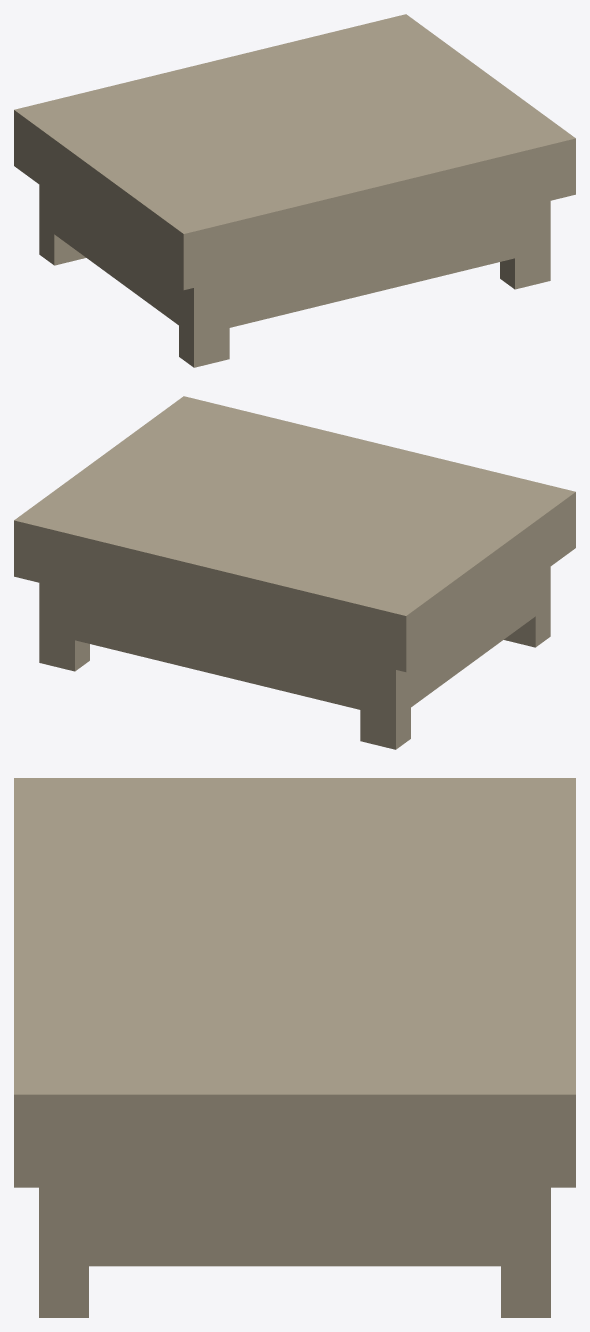
File: pk_ott_tweed.glb
3 views of the same model, one above another, from view 1: azimuth 30°, elevation 25°; view 2: azimuth 150°, elevation 25°; view 3: azimuth 270°, elevation 25° (orthographic). The views are drawn at different scales.
Visible parts, largest first — view 1: pk_ott_tweed; view 2: pk_ott_tweed; view 3: pk_ott_tweed.
Boxes of the visible parts, x1,y1,x2,y2 form: pk_ott_tweed: [14, 14, 575, 367]; pk_ott_tweed: [14, 396, 575, 749]; pk_ott_tweed: [14, 778, 575, 1317].
Size of the model in its own units: 1.2 by 0.42 by 0.9.
1 material, 1 textured.
